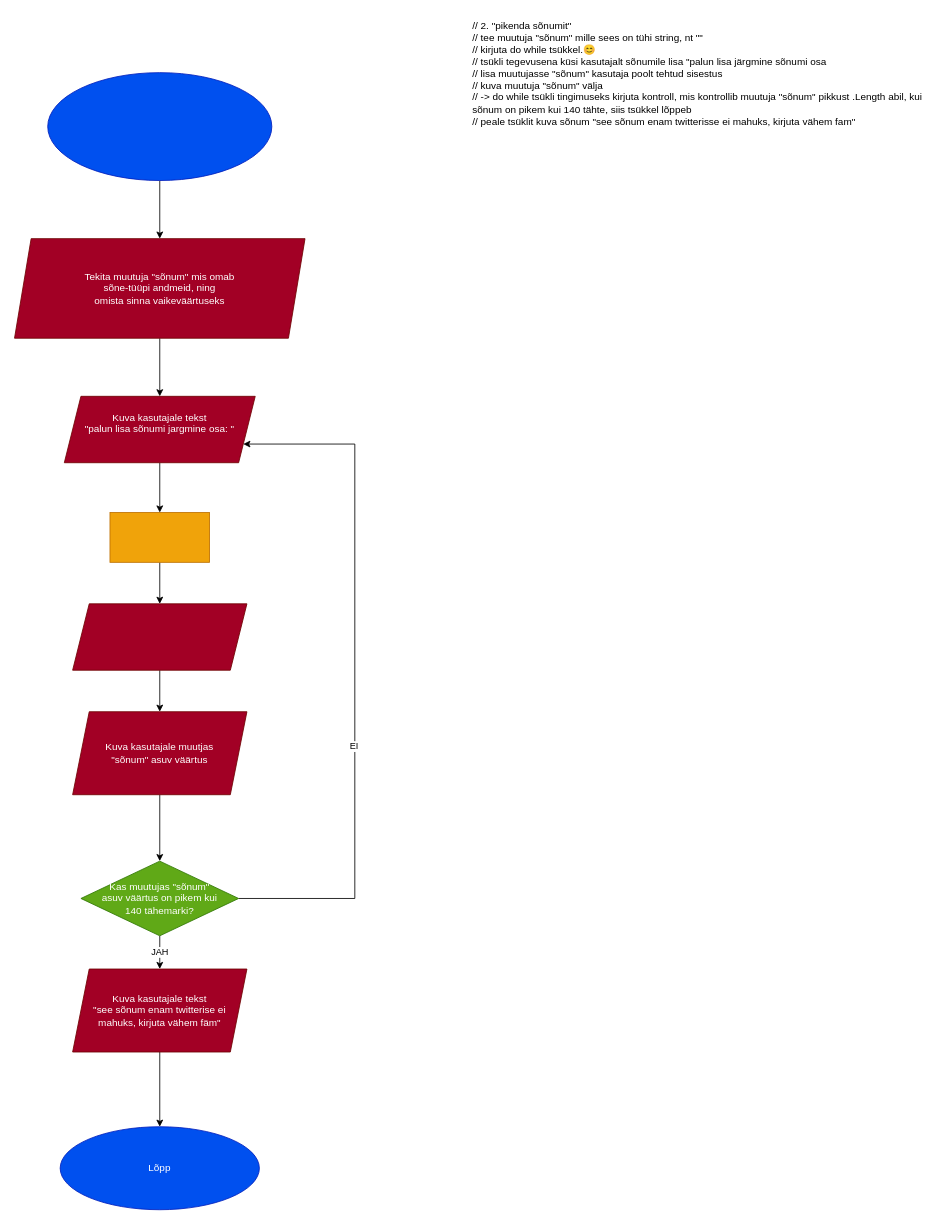
Some shapes in this 950 by 1224 pixel diagram are drawn without their labels. The centre of each missing label's shape, as x and y in pixels:
Algus: [159,126]
lisa muutujasse sõnum, koos seal eelneva väärtusega, muutuja "sisestus" väärtus: [159,636]
oota kuni kasutaja sisestab midagi käsureale.: [159,537]
